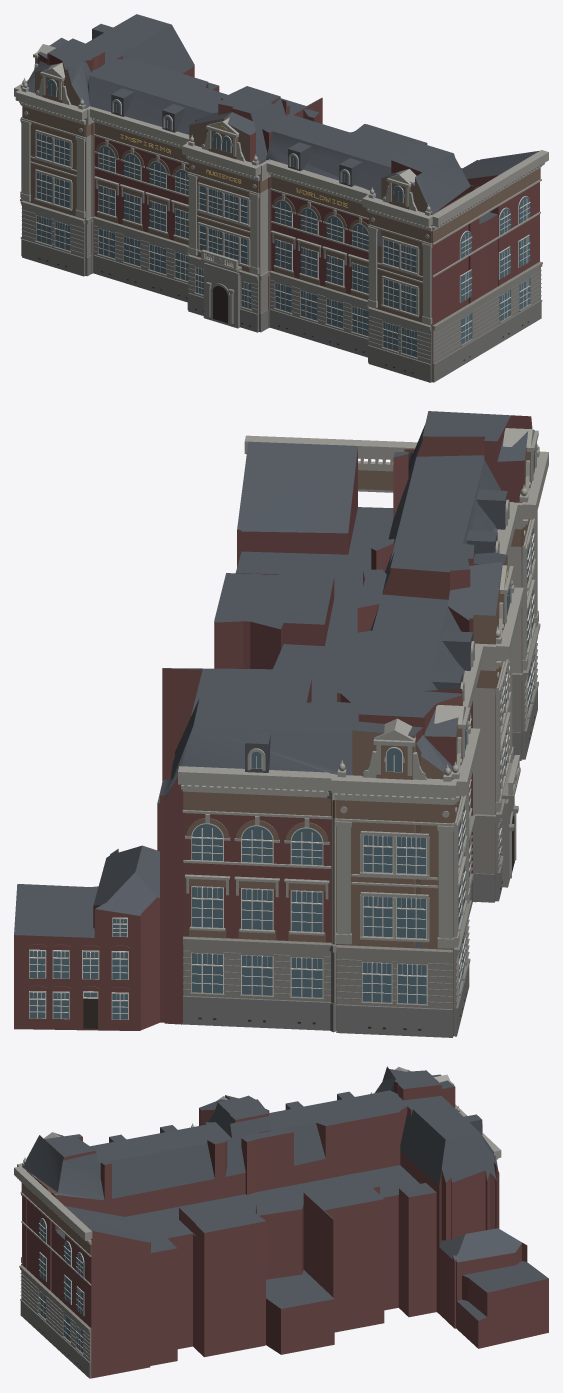
Rendered from school-raamplein-1.glb.
The picture shows the model from 3 angles, top to bottom: view 1: azimuth 30°, elevation 25°; view 2: azimuth 150°, elevation 25°; view 3: azimuth 270°, elevation 25°; orthographic projection. The views are drawn at different scales.
Visible parts, largest first — view 1: school-raamplein-1; view 2: school-raamplein-1; view 3: school-raamplein-1.
Part boxes in pixels (x1,y1,x2,y2): school-raamplein-1: [14, 14, 548, 382]; school-raamplein-1: [14, 411, 548, 1037]; school-raamplein-1: [14, 1066, 548, 1378].
Size of the model in its own units: 40.73 by 23.65 by 62.93.
